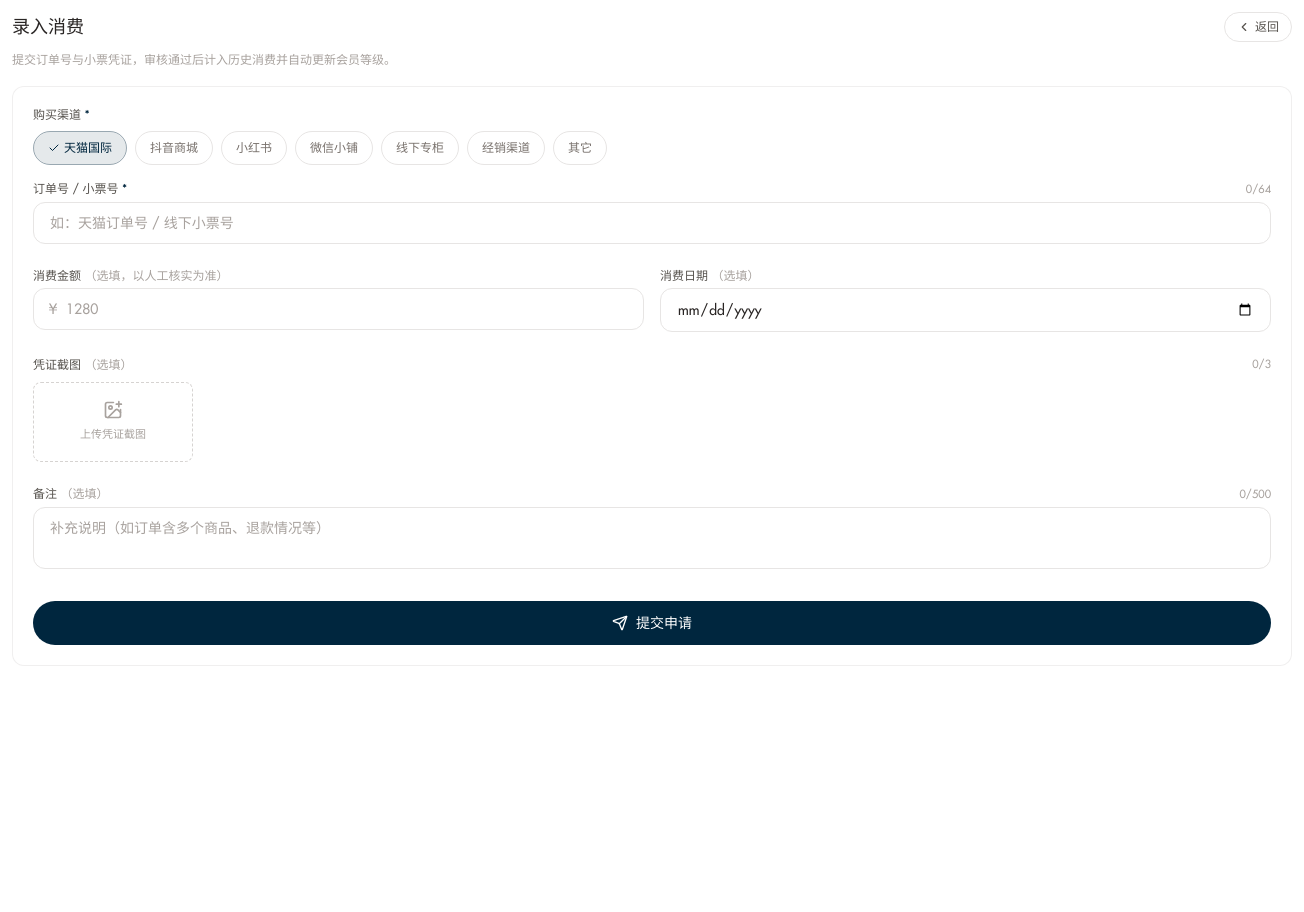
SpentAdjustmentPanel 表单 › 「其它」渠道：说明位于订单号之前，且不再显示底部备注
Click the button "其它": [580, 148] box x1=553 y1=130 x2=607 y2=164
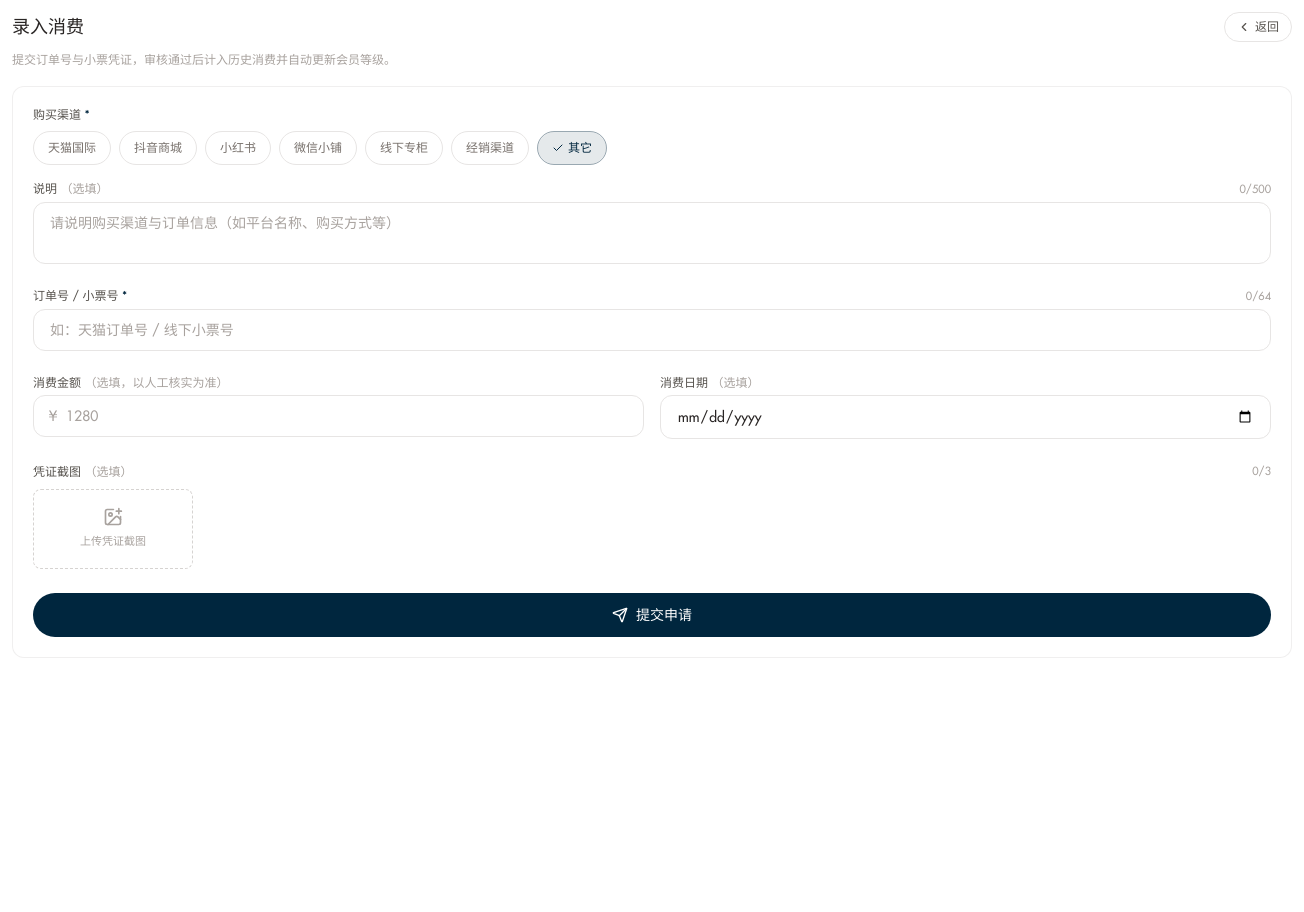
Now the label labelled "备注" is gone
